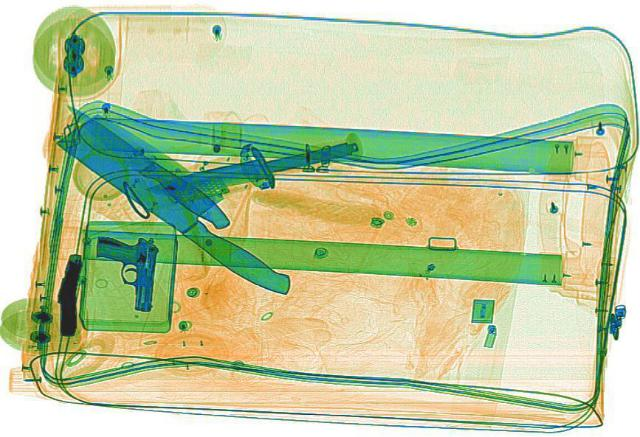Gun: (89, 233, 159, 310), (52, 252, 84, 334)
Knife: (44, 110, 332, 299), (52, 98, 240, 231), (138, 139, 358, 200)
